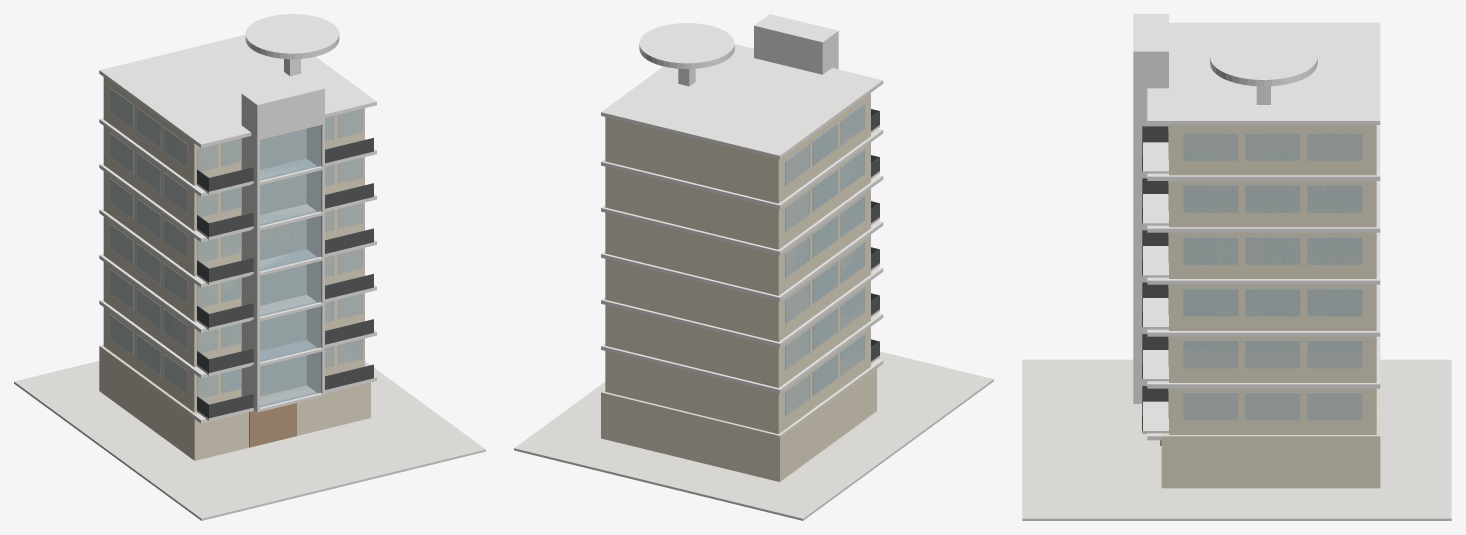
The model's file is nuab-ali-residence.glb.
The picture shows the model from 3 angles, left to right: view 1: azimuth 30°, elevation 25°; view 2: azimuth 150°, elevation 25°; view 3: azimuth 270°, elevation 25°; orthographic projection. The views are drawn at different scales.
Parts seen in each view (by area): view 1: site-site, roof-white, floor-0-cream, floor-6-cream, floor-5-cream, floor-4-cream, floor-2-cream, floor-3-cream, floor-1-cream, floor-1-glass, floor-5-glass, floor-6-glass (+16 smaller); view 2: roof-white, site-site, floor-0-cream, floor-6-cream, floor-1-cream, floor-3-cream, floor-2-cream, floor-4-cream, floor-5-cream, floor-2-glass, floor-1-glass, floor-3-glass (+9 smaller); view 3: site-site, roof-white, floor-0-cream, floor-6-cream, floor-1-cream, floor-2-cream, floor-3-cream, floor-4-cream, floor-5-cream, floor-2-glass, floor-1-glass, floor-6-glass (+9 smaller).
Part boxes in pixels (<box>): site-site: <box>14,361,485,520</box>; roof-white: <box>99,14,376,147</box>; floor-0-cream: <box>99,345,370,460</box>; floor-6-cream: <box>103,77,364,185</box>; floor-5-cream: <box>103,126,364,231</box>; floor-4-cream: <box>103,171,364,276</box>; floor-2-cream: <box>103,262,364,367</box>; floor-3-cream: <box>103,217,364,321</box>; floor-1-cream: <box>103,307,364,412</box>; floor-1-glass: <box>109,314,362,407</box>; floor-5-glass: <box>109,132,362,225</box>; floor-6-glass: <box>109,87,362,180</box>; roof-white: <box>601,14,883,159</box>; site-site: <box>514,351,993,520</box>; floor-0-cream: <box>601,365,876,481</box>; floor-6-cream: <box>605,93,870,203</box>; floor-1-cream: <box>605,327,870,433</box>; floor-3-cream: <box>605,235,870,341</box>; floor-2-cream: <box>605,281,870,387</box>; floor-4-cream: <box>605,189,870,295</box>; floor-5-cream: <box>605,143,870,249</box>; floor-2-glass: <box>785,288,864,370</box>; floor-1-glass: <box>785,334,864,416</box>; floor-3-glass: <box>785,241,864,324</box>; site-site: <box>1022,359,1451,520</box>; roof-white: <box>1133,14,1380,124</box>; floor-0-cream: <box>1161,388,1380,488</box>; floor-6-cream: <box>1169,125,1376,175</box>; floor-1-cream: <box>1169,388,1376,434</box>; floor-2-cream: <box>1169,336,1376,382</box>; floor-3-cream: <box>1169,284,1376,330</box>; floor-4-cream: <box>1169,232,1376,278</box>; floor-5-cream: <box>1169,181,1376,227</box>; floor-2-glass: <box>1168,336,1362,368</box>; floor-1-glass: <box>1168,388,1362,420</box>; floor-6-glass: <box>1168,125,1362,160</box>.
Size of the model in its own units: 21 by 25.55 by 24.
